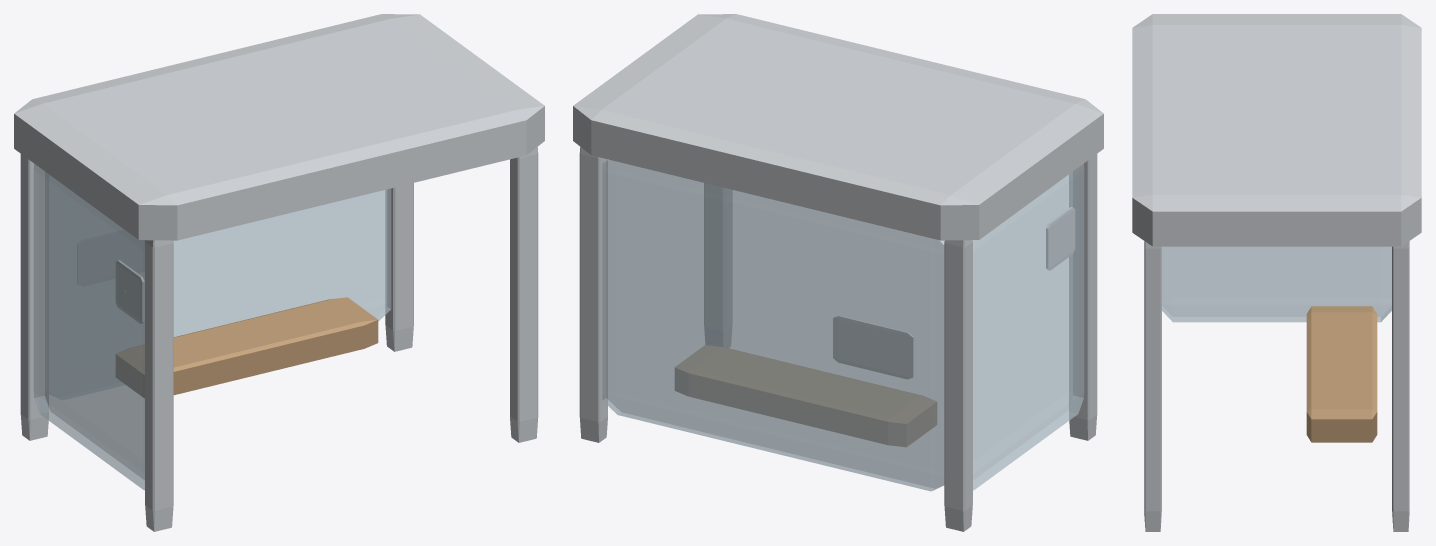
Rendered from b01_louvered_shade_transit_shelter.glb.
3 renders of one model, left to right at view 1: azimuth 30°, elevation 25°; view 2: azimuth 150°, elevation 25°; view 3: azimuth 270°, elevation 25°, orthographic.
Parts seen in each view (by area): view 1: b01_louvered_shade_transit_shelter; view 2: b01_louvered_shade_transit_shelter; view 3: b01_louvered_shade_transit_shelter.
Part boxes in pixels (box(x1,y1,x2,y2)): b01_louvered_shade_transit_shelter: box(14, 14, 544, 531); b01_louvered_shade_transit_shelter: box(573, 14, 1103, 531); b01_louvered_shade_transit_shelter: box(1132, 14, 1421, 531).
Size of the model in its own units: 3.13 by 2.44 by 1.94.
